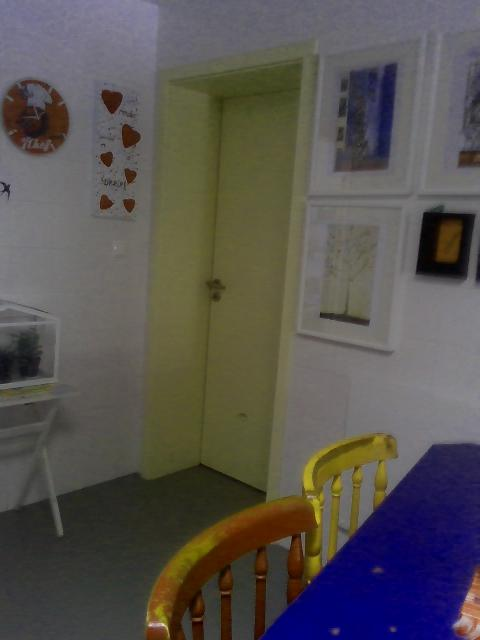closed_door: (199, 87, 316, 491)
